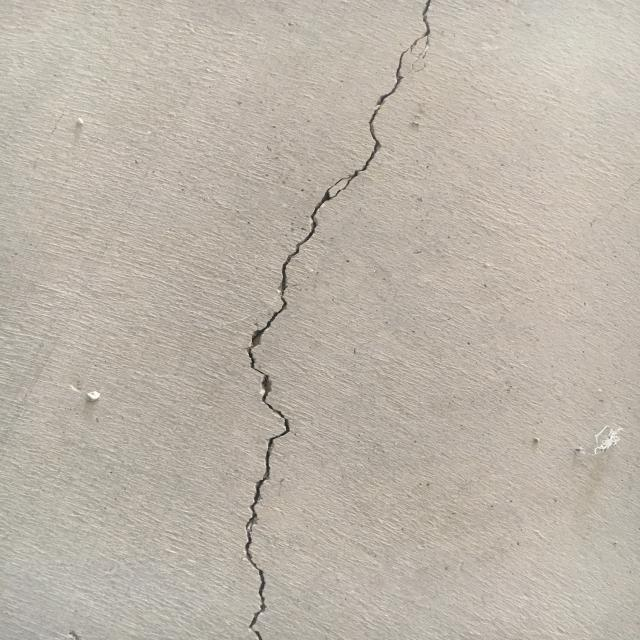Rachadura: (242, 0, 438, 640)
